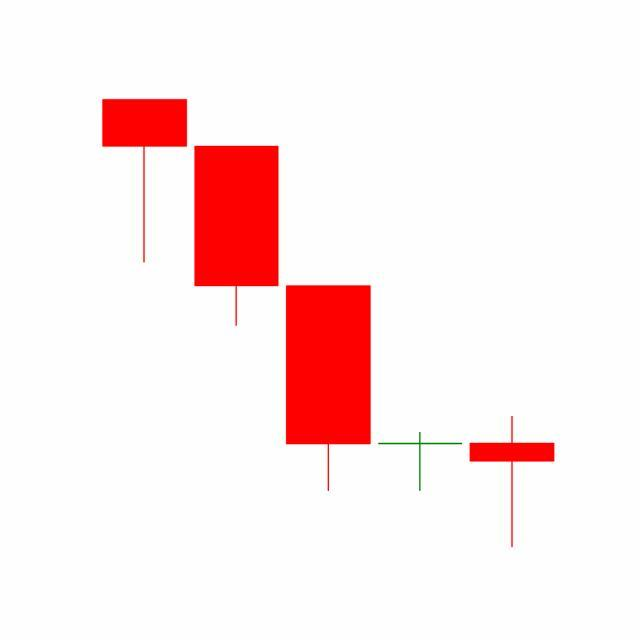Dragonfly Doji: (374, 432, 468, 493)
